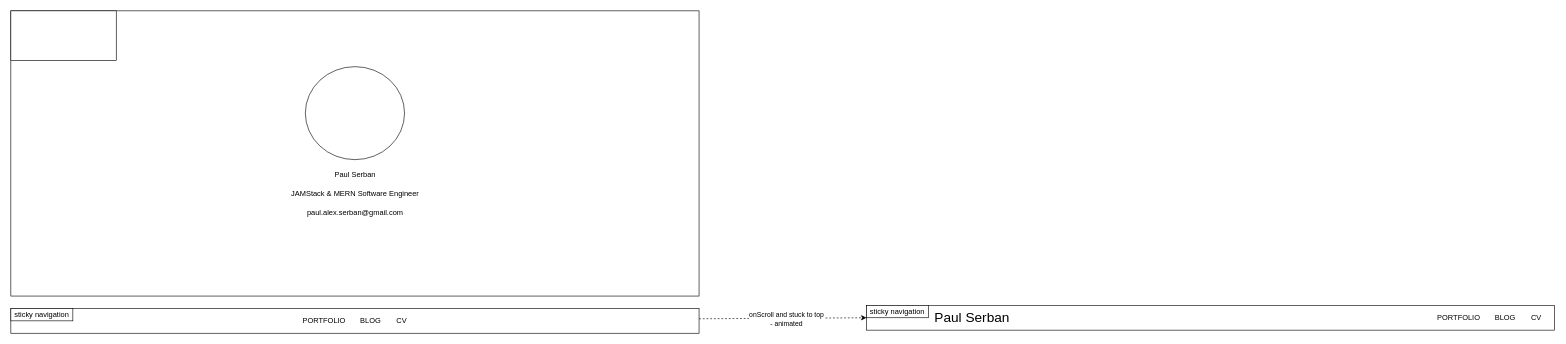
Some shapes in this 1566 by 344 pixel diagram are drawn without their labels. Here are the shapes that lost their labels. From the top down, the centre of each, then its label:
At point (63, 35): "herro banner - parallax image - profile photo - email - email obfuscation".
At point (355, 113): "profile image".
